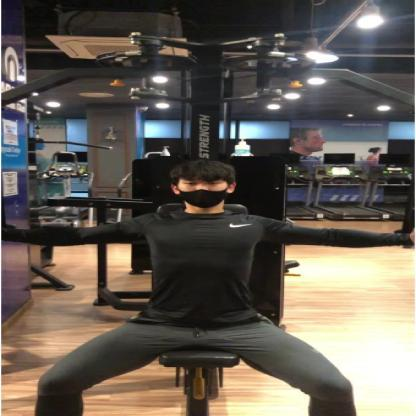chest fly machine: (0, 16, 416, 416)
